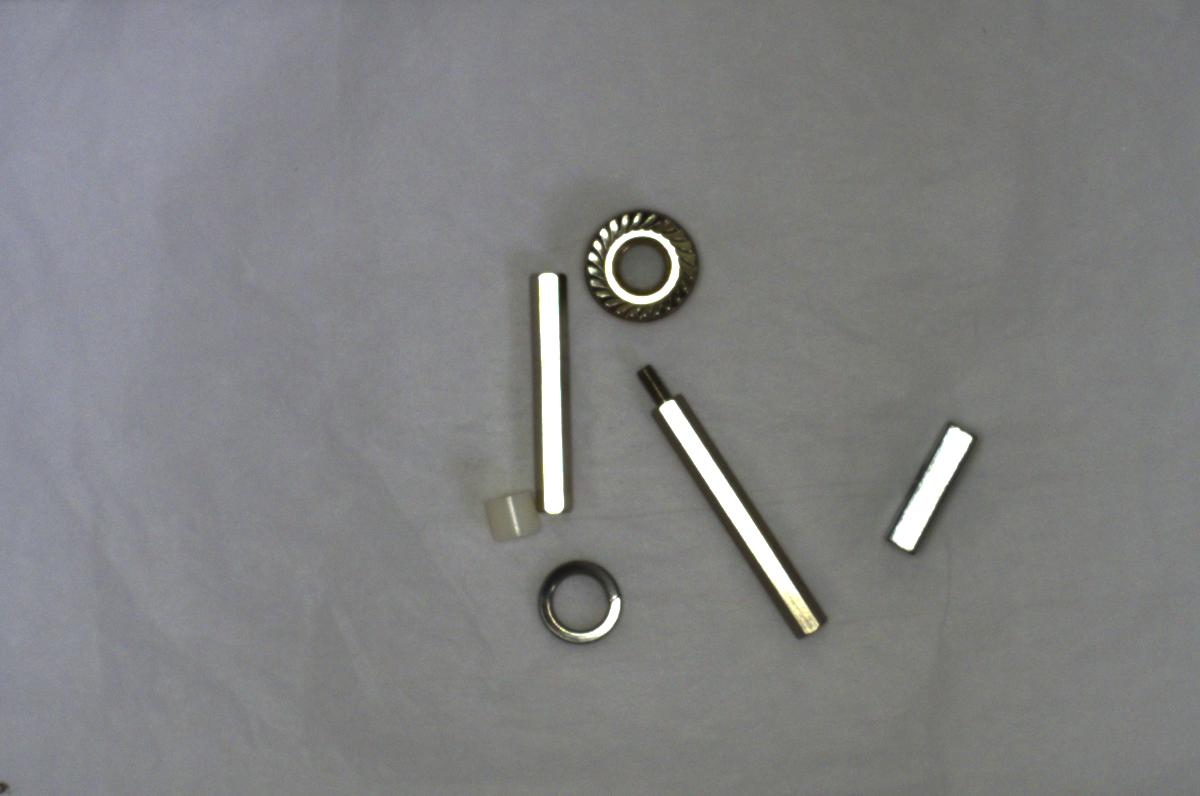Double hexagonal column: (524, 265, 578, 525)
Flange nut: (578, 199, 708, 326)
Hexagonal steel column: (637, 360, 822, 647)
Plastic cushion pillar: (481, 482, 538, 552)
Rectangular nut: (872, 410, 981, 558)
Spring washer: (527, 553, 628, 650)
